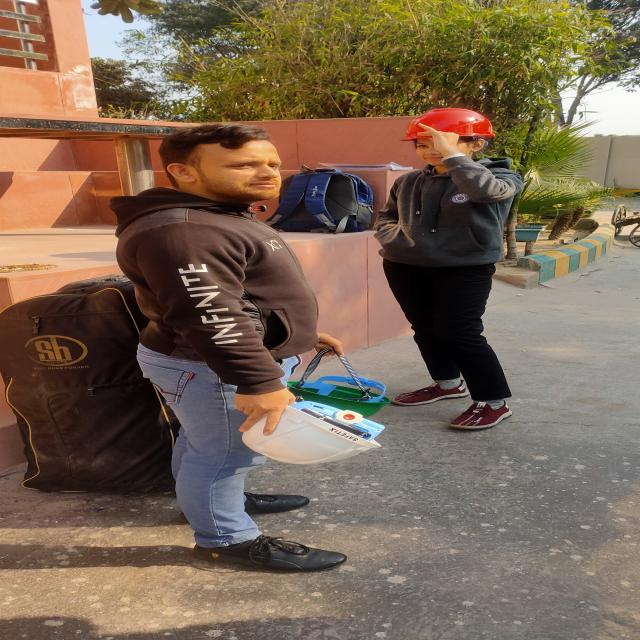no jacket: (383, 104, 525, 431)
unsafe: (120, 124, 384, 572)
